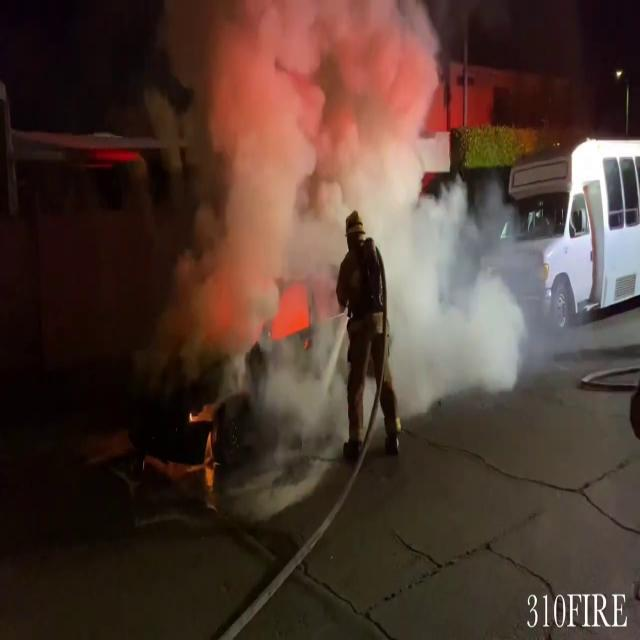Smoke: (165, 1, 542, 425)
